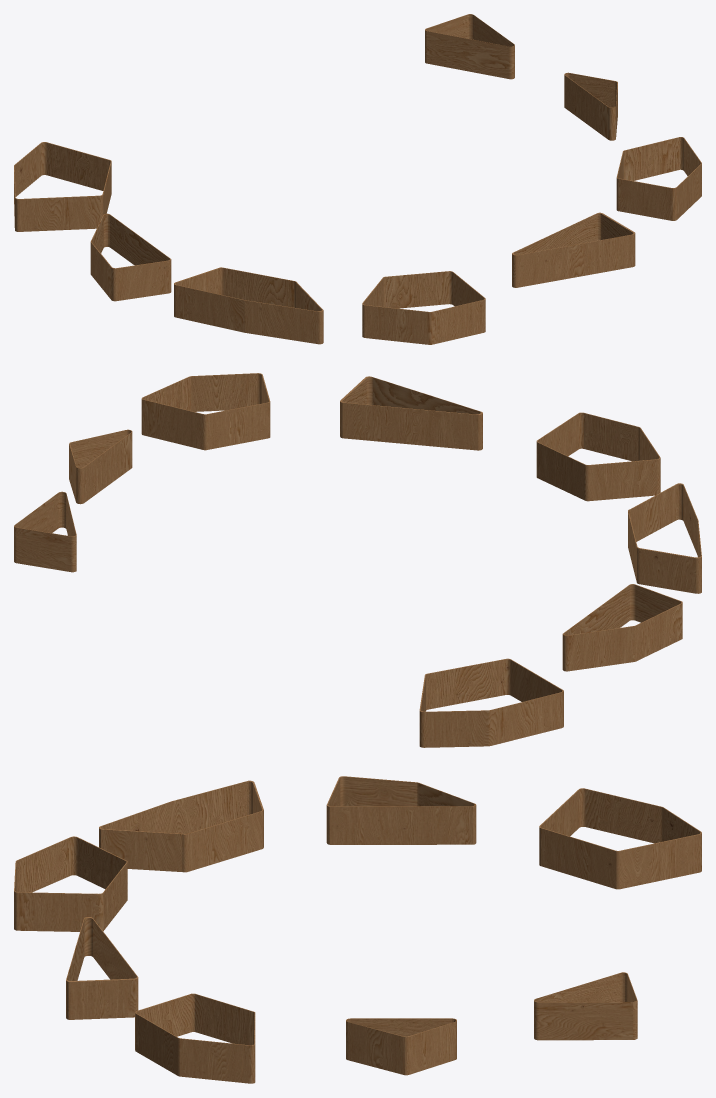
Rendered from mesh_tut_planter_tops.glb.
The picture shows the model from 3 angles, top to bottom: view 1: azimuth 30°, elevation 25°; view 2: azimuth 150°, elevation 25°; view 3: azimuth 270°, elevation 25°; orthographic projection. The views are drawn at different scales.
Parts seen in each view (by area): view 1: mesh_tut_planter_tops; view 2: mesh_tut_planter_tops; view 3: mesh_tut_planter_tops.
Part boxes in pixels (x1=…): mesh_tut_planter_tops: x1=14, y1=14, x2=701, y2=344; mesh_tut_planter_tops: x1=14, y1=373, x2=701, y2=747; mesh_tut_planter_tops: x1=14, y1=776, x2=701, y2=1083.
Bounding box in the file's own units: 14.33 × 2.15 × 13.73.
Materials: 1 (1 with a texture image).
